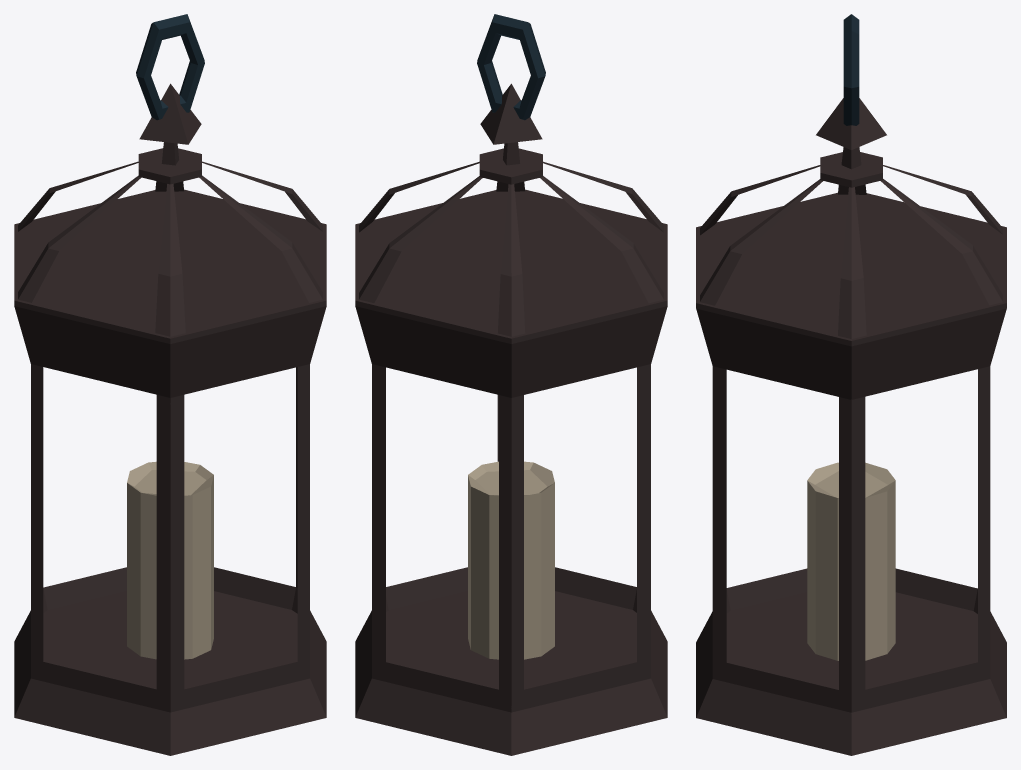
File: Lampara 2.fbx
The picture shows the model from 3 angles, left to right: view 1: azimuth 30°, elevation 25°; view 2: azimuth 150°, elevation 25°; view 3: azimuth 270°, elevation 25°; orthographic projection.
Visible parts, largest first — view 1: Lampara; view 2: Lampara; view 3: Lampara.
Part boxes in pixels (left/top/right/bottom): Lampara: left=14, top=14, right=326, bottom=755; Lampara: left=355, top=14, right=667, bottom=755; Lampara: left=696, top=14, right=1006, bottom=755.
Size of the model in its own units: 59.38 by 120 by 51.42.
